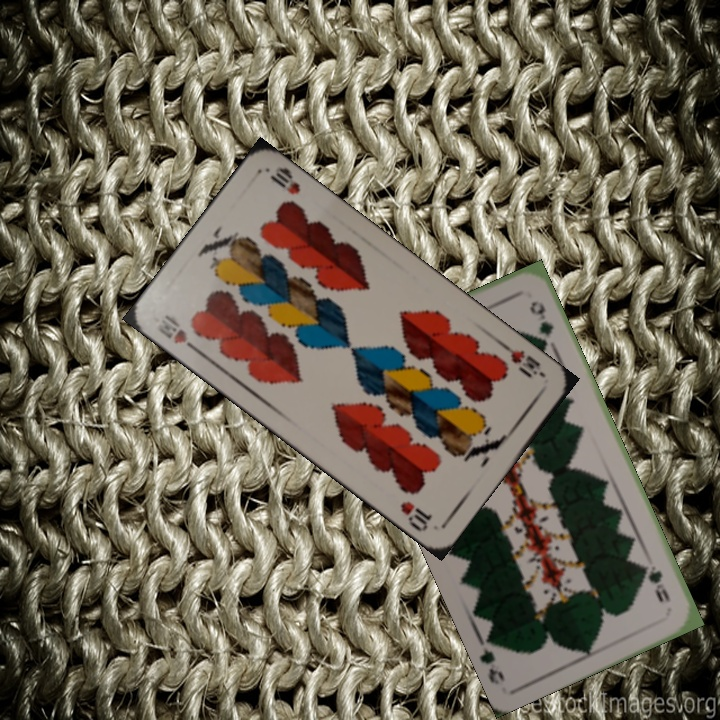G9: (639, 560, 673, 606)
H10: (153, 310, 203, 356), (497, 339, 549, 381)
